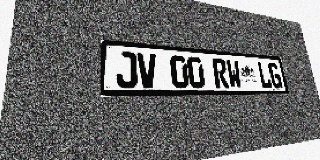0: (170, 55, 189, 88), (186, 56, 205, 88)
G: (267, 62, 283, 88)
J: (116, 51, 137, 88)
L: (257, 62, 272, 88)
R: (212, 58, 229, 88)
V: (137, 52, 158, 88)
W: (225, 59, 243, 88)
